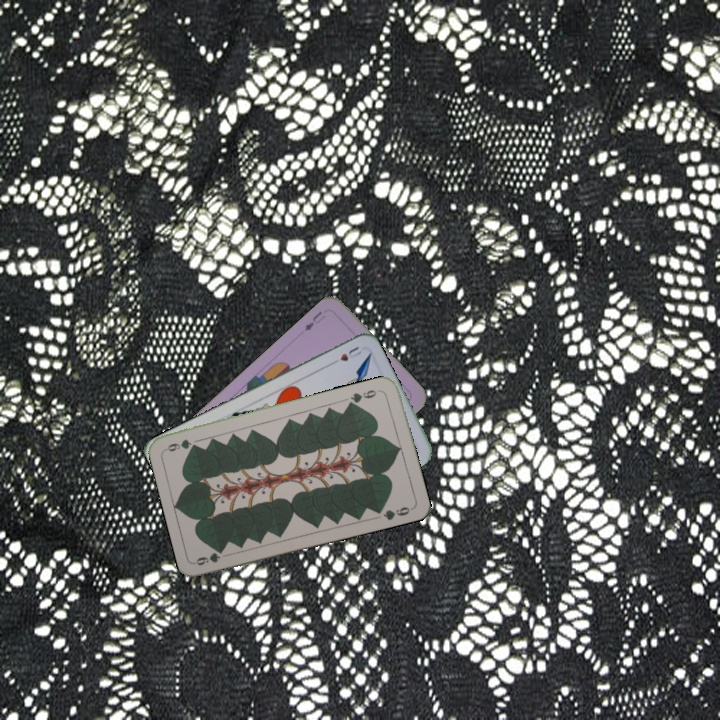EU: (300, 307, 328, 334)
G9: (345, 385, 384, 407), (192, 546, 226, 568)
HU: (326, 342, 365, 368)
